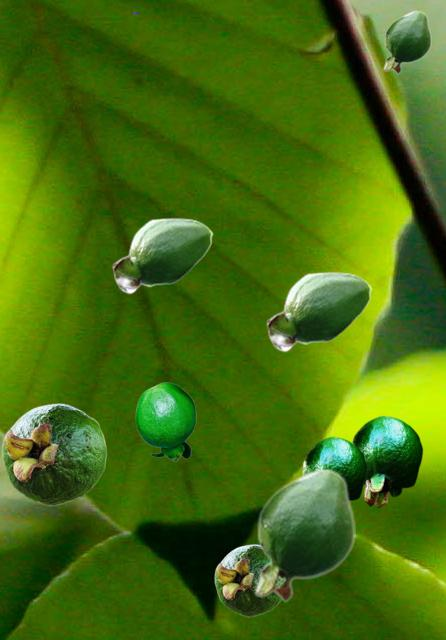guava: (254, 467, 354, 602), (1, 403, 106, 505), (266, 271, 371, 351), (112, 217, 212, 293), (351, 415, 422, 507), (214, 544, 280, 616), (135, 382, 195, 460), (302, 436, 366, 500), (383, 10, 430, 73)
